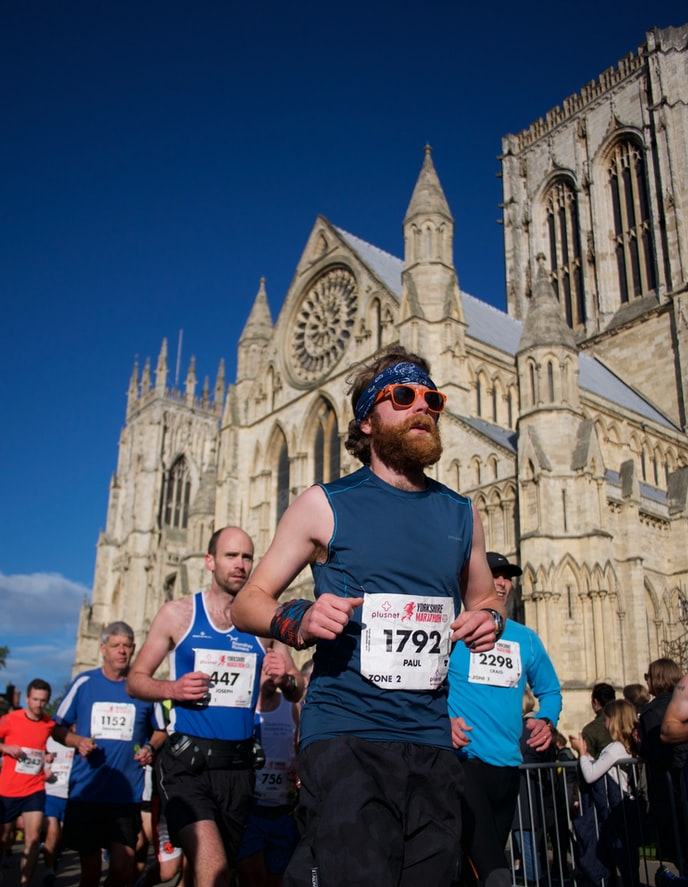beard: (363, 416, 452, 473)
glasses: (373, 382, 448, 416)
